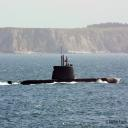submarine: (8, 54, 121, 87)
